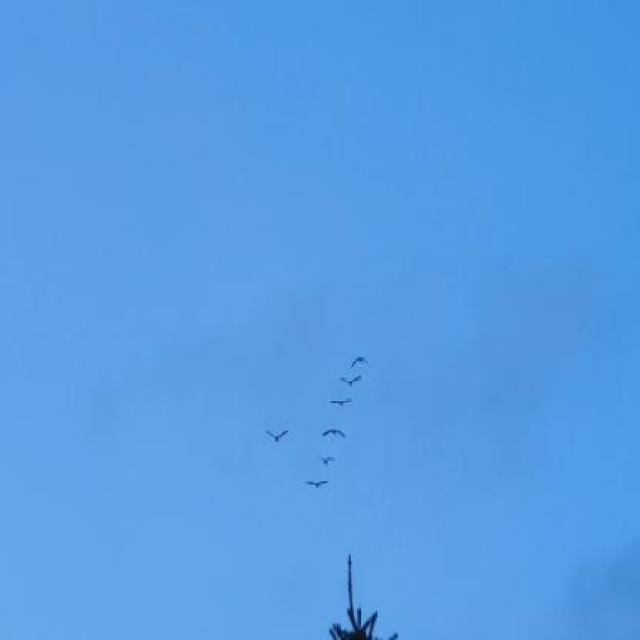bird: (259, 410, 292, 452), (321, 419, 348, 443), (329, 390, 354, 413), (302, 476, 335, 492), (340, 371, 363, 391), (351, 348, 371, 370), (318, 450, 338, 468)
